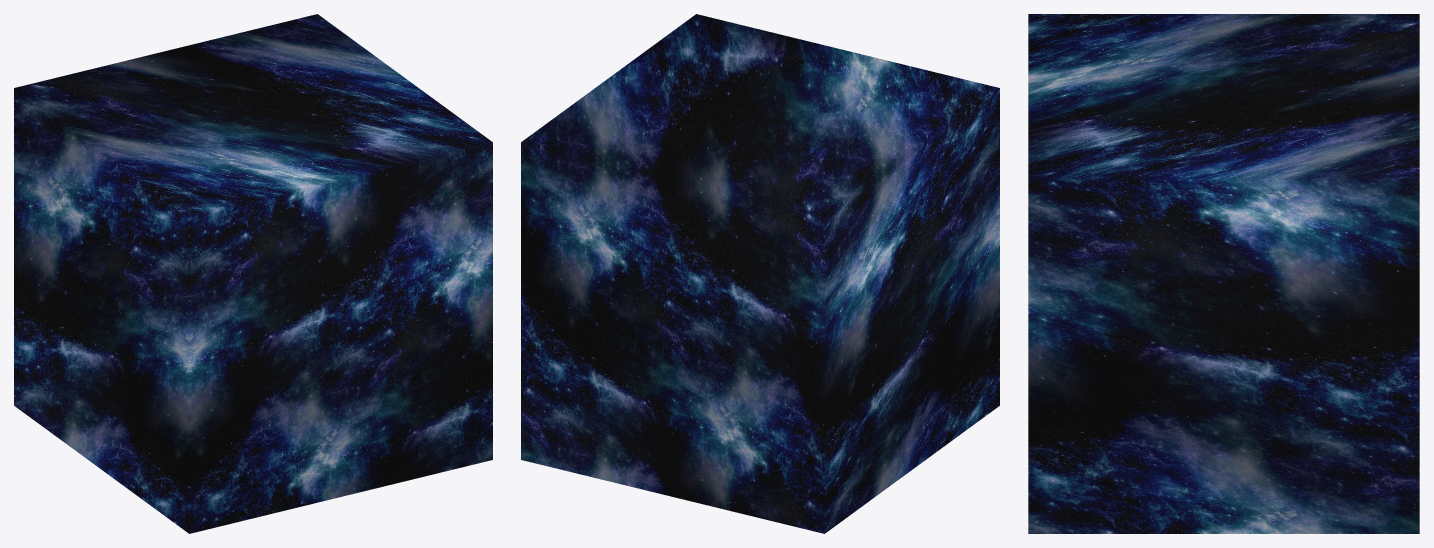
The model's file is index.glb.
The picture shows the model from 3 angles, left to right: view 1: azimuth 30°, elevation 25°; view 2: azimuth 150°, elevation 25°; view 3: azimuth 270°, elevation 25°; orthographic projection. The views are drawn at different scales.
Visible parts, largest first — view 1: starcube; view 2: starcube; view 3: starcube.
Part boxes in pixels (bbox=[...]): starcube: bbox=[14, 14, 492, 533]; starcube: bbox=[521, 14, 999, 533]; starcube: bbox=[1028, 14, 1419, 533].
Bounding box in the file's own units: 1317 × 1317 × 1317.
Materials: 3 (2 with a texture image).
